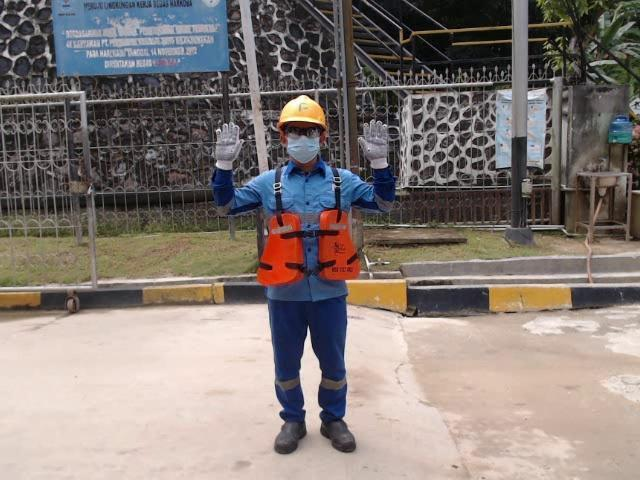vest: (254, 207, 365, 288)
